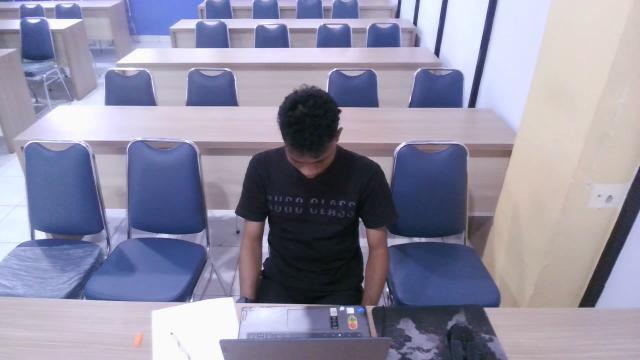Head_Down_Extreme: (234, 82, 395, 238)
